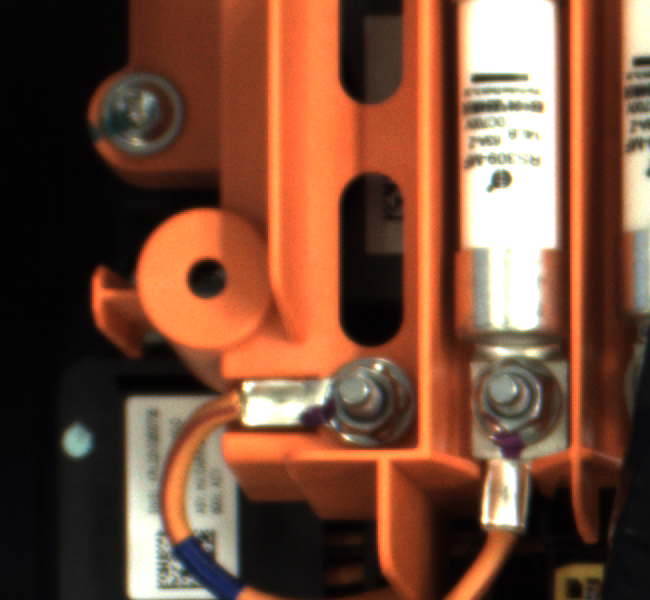screw_m: (95, 74, 202, 161)
screw_s: (457, 345, 573, 466), (311, 353, 421, 449)
